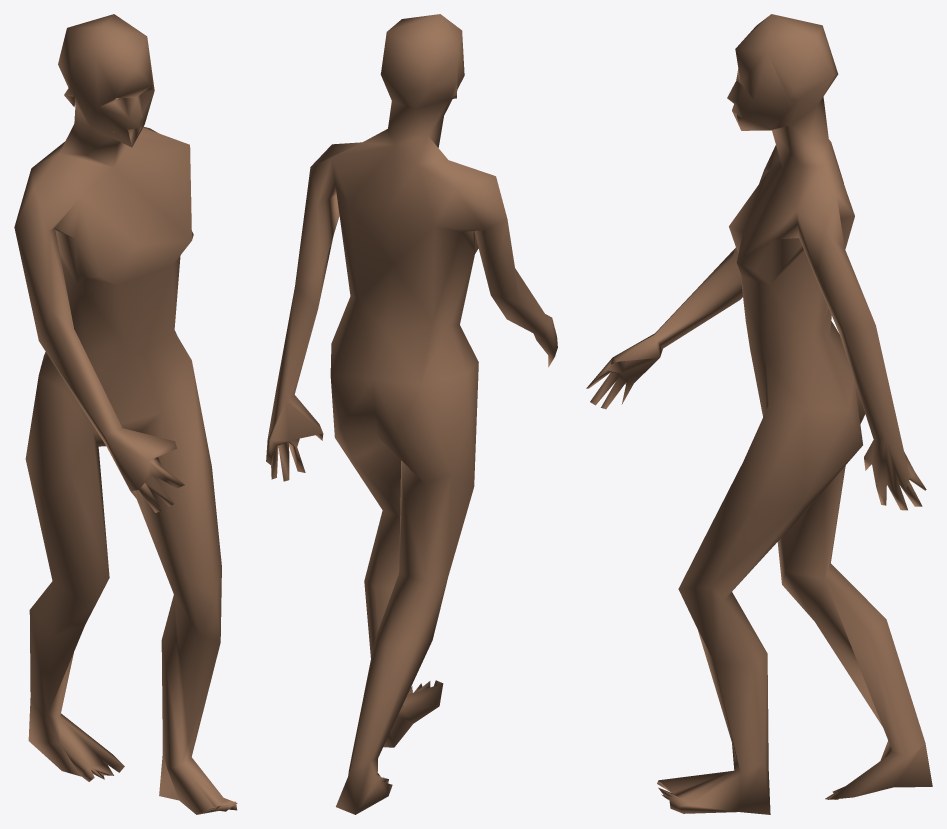
Rendered from obs_000025.obj.
3 views of the same model, side by side, from view 1: azimuth 30°, elevation 25°; view 2: azimuth 150°, elevation 25°; view 3: azimuth 270°, elevation 25° (orthographic). The views are drawn at different scales.
Visible parts, largest first — view 1: 1-base; view 2: 1-base; view 3: 1-base.
Boxes of the visible parts, left/top/right/bottom form: 1-base: left=14, top=14, right=237, bottom=814; 1-base: left=266, top=14, right=557, bottom=814; 1-base: left=586, top=14, right=932, bottom=814.
Bounding box in the file's own units: 0.3674 × 1.44 × 0.5833.
